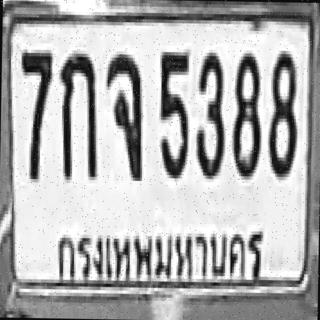A01: (57, 50, 97, 176)
A08: (104, 51, 142, 177)
N03: (194, 49, 225, 176)
N05: (157, 49, 188, 175)
N07: (18, 46, 50, 179)
N08: (266, 47, 297, 174), (230, 50, 261, 176)
P04: (53, 222, 266, 299)
